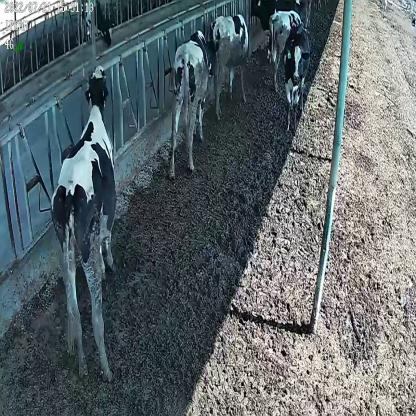cow: (50, 61, 118, 379), (170, 25, 213, 177), (211, 13, 250, 120), (282, 21, 310, 129), (267, 10, 303, 92)
